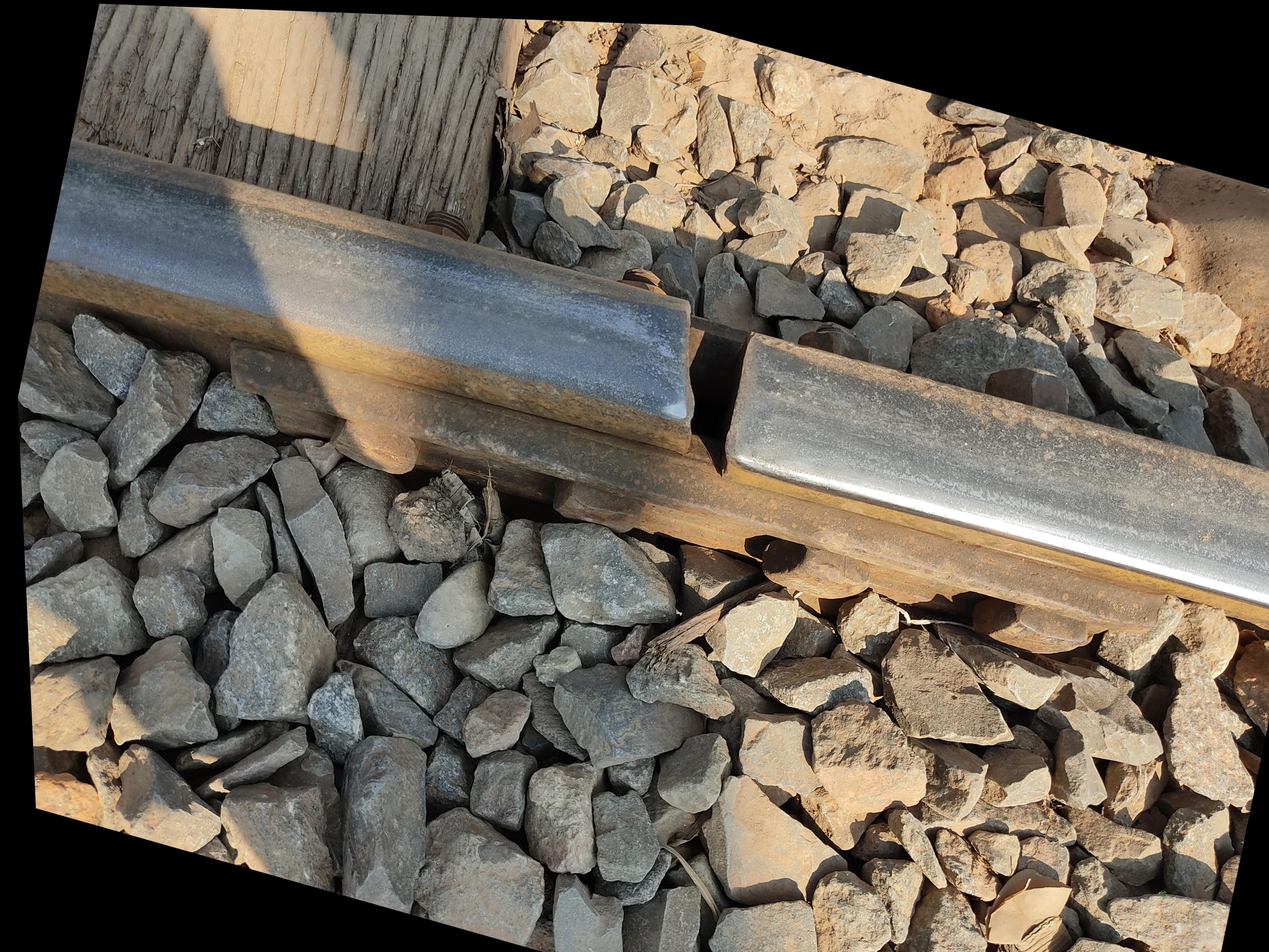person: (653, 95, 1007, 430)
